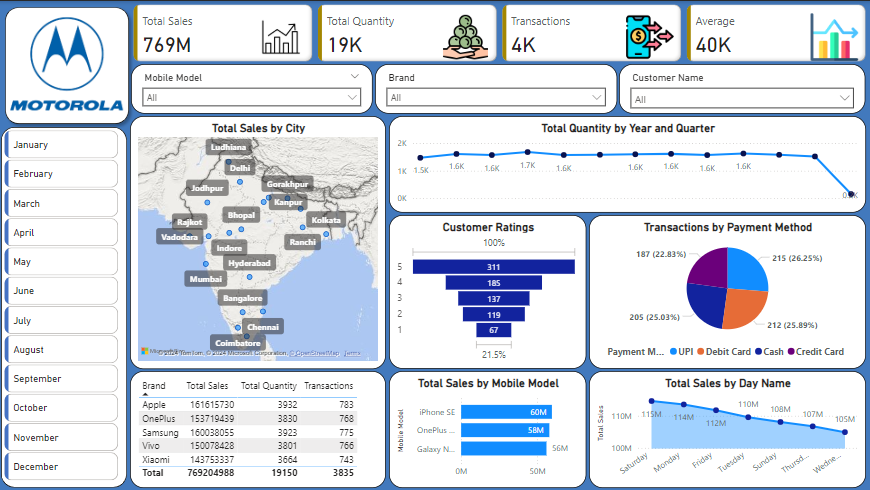

The page's visual inventory and layout, read from the dashboard file:
{"tool":"powerbi","page":{"name":"Page 1","canvas":[1280,720],"ordinal":0},"visuals":[{"type":"shape","box":[0,0,199.8,189.6],"z":0},{"type":"shape","box":[2.9,185.1,185,530],"z":1000},{"type":"image","box":[1.5,4.4,195.4,176.3],"z":2000},{"type":"advancedSlicerVisual","fields":{"Values":["Sales_Data.Date.Variation.Date Hierarchy.Month"]},"box":[2.9,185.1,177.8,534.9],"z":3000},{"type":"cardVisual","fields":{"Data":["Sales_Data.Total Sales","Sales_Data.Total Quantity","Sales_Data.Transactions","Sales_Data.Average"]},"box":[192.5,0,1086,94],"z":4000},{"type":"map","title":"Total Sales by City","fields":{"Category":["Sales_Data.City"]},"box":[192.5,169,376,372],"z":5000},{"type":"lineChart","fields":{"Y":["Sales_Data.Total Quantity"],"Category":["Sales_Data.Date.Variation.Date Hierarchy.Year","Sales_Data.Date.Variation.Date Hierarchy.Quarter"]},"box":[573.1,169,701,142],"z":6000},{"type":"barChart","fields":{"Category":["Sales_Data.Mobile Model"],"Y":["Sales_Data.Total Sales"]},"box":[573.1,543.7,290,172],"z":7000},{"type":"pieChart","fields":{"Category":["Sales_Data.Payment Method"],"Y":["Sales_Data.Transactions"]},"box":[866.9,314.4,407,226],"z":8000},{"type":"funnel","title":"Customer Ratings","fields":{"Category":["Sales_Data.Customer Ratings"],"Y":["CountNonNull(Sales_Data.Customer Ratings)"]},"box":[573.1,314.4,290,226],"z":9000},{"type":"areaChart","fields":{"Category":["Sales_Data.Day Name"],"Y":["Sales_Data.Total Sales"]},"box":[866.9,543.7,407,172],"z":10000},{"type":"tableEx","fields":{"Values":["Sales_Data.Brand","Sales_Data.Total Sales","Sales_Data.Total Quantity","Sales_Data.Transactions"]},"box":[192.5,543.7,376,171.9],"z":11000},{"type":"slicer","fields":{"Values":["Sales_Data.Mobile Model"]},"box":[194,92.6,355,73],"z":12000},{"type":"slicer","fields":{"Values":["Sales_Data.Brand"]},"box":[552.5,92.6,355.6,73],"z":13000},{"type":"slicer","fields":{"Values":["Sales_Data.Customer Name"]},"box":[911,92.6,362,73],"z":14000}]}

Visuals, with their boxes in screenshot pixels (x1, y1, x2, y2), scaled from the page's 1280x720 canvas onto the 870x490 screenshot:
shape: x1=0, y1=0, x2=136, y2=129
shape: x1=2, y1=126, x2=128, y2=487
image: x1=1, y1=3, x2=134, y2=123
advancedSlicerVisual - Sales_Data.Date.Variation.Date Hierarchy.Month: x1=2, y1=126, x2=123, y2=489
cardVisual - Sales_Data.Total Sales x Sales_Data.Total Quantity: x1=131, y1=0, x2=869, y2=64
"Total Sales by City" map: x1=131, y1=115, x2=386, y2=368
lineChart - Sales_Data.Total Quantity x Sales_Data.Date.Variation.Date Hierarchy.Year: x1=390, y1=115, x2=866, y2=212
barChart - Sales_Data.Mobile Model x Sales_Data.Total Sales: x1=390, y1=370, x2=587, y2=487
pieChart - Sales_Data.Payment Method x Sales_Data.Transactions: x1=589, y1=214, x2=866, y2=368
"Customer Ratings" funnel: x1=390, y1=214, x2=587, y2=368
areaChart - Sales_Data.Day Name x Sales_Data.Total Sales: x1=589, y1=370, x2=866, y2=487
tableEx - Sales_Data.Brand x Sales_Data.Total Sales: x1=131, y1=370, x2=386, y2=487
slicer - Sales_Data.Mobile Model: x1=132, y1=63, x2=373, y2=113
slicer - Sales_Data.Brand: x1=376, y1=63, x2=617, y2=113
slicer - Sales_Data.Customer Name: x1=619, y1=63, x2=865, y2=113
